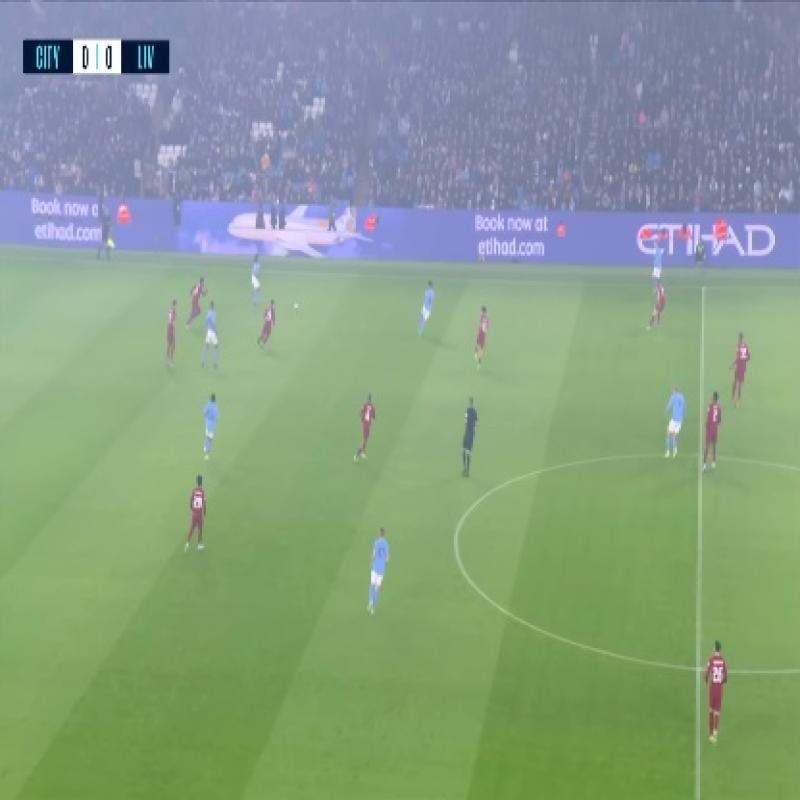13: (692, 271, 714, 304)
14: (686, 440, 714, 475)
15: (682, 644, 711, 688)
c: (441, 516, 475, 560)
